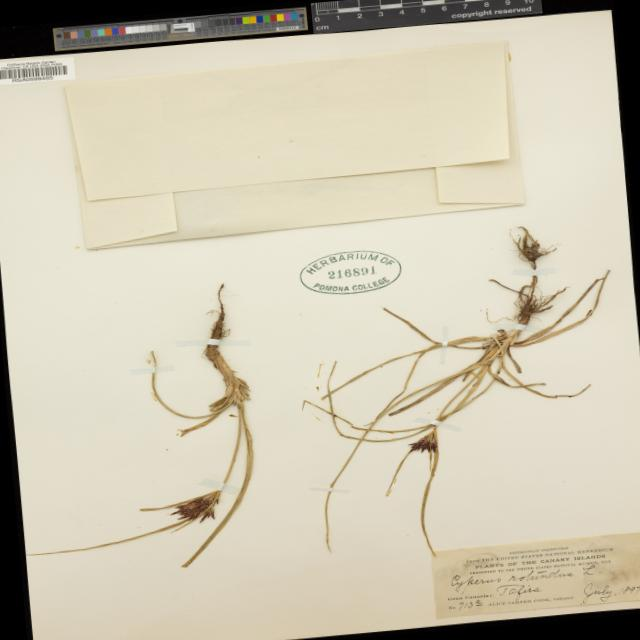cyperus: (482, 220, 578, 332), (150, 480, 245, 539), (398, 422, 448, 463)
